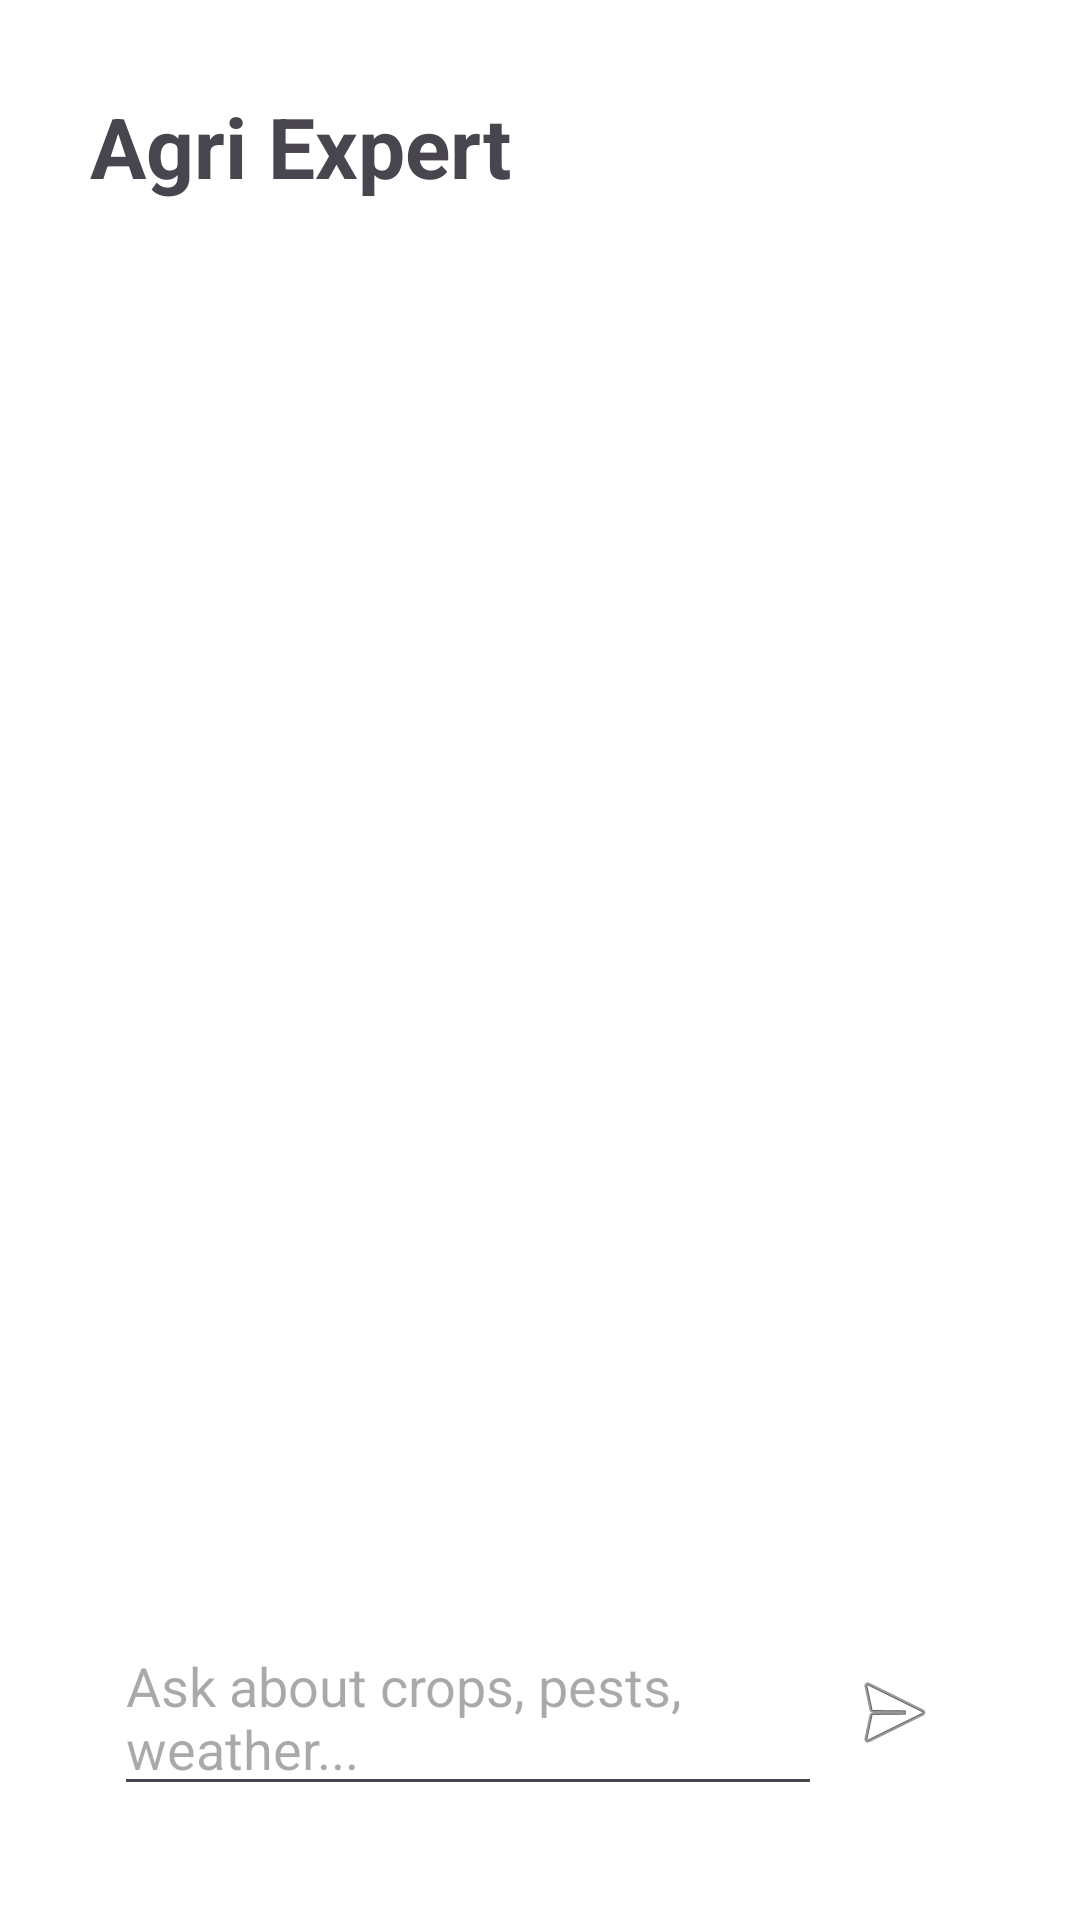

Icon bounding boxes for this 1080 × 1920 phone screenshot, format (x1, y1, x2, y2):
Send: (864, 1682, 926, 1743)
